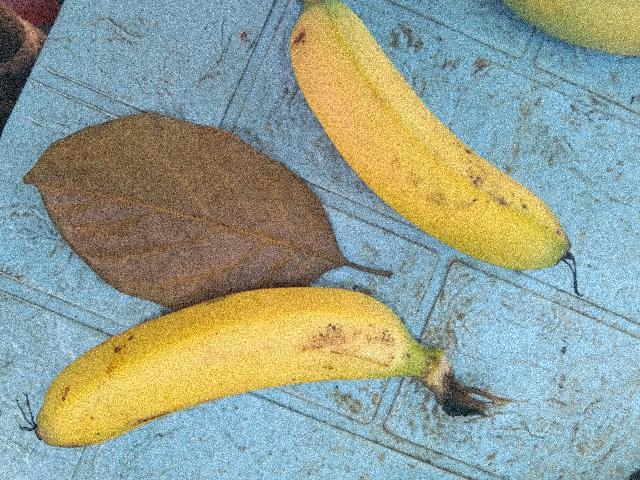freshripe: (24, 280, 457, 479)
ripe: (271, 0, 573, 278)
